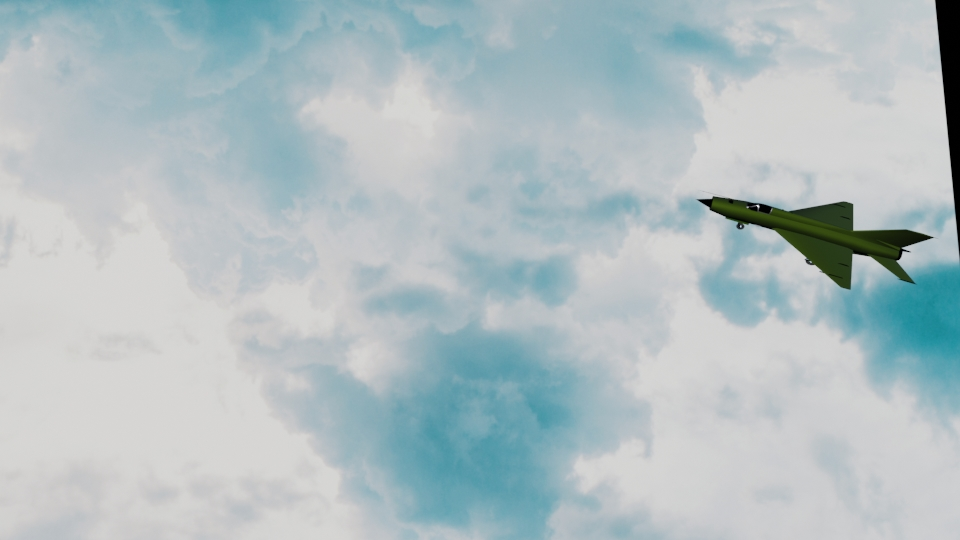plane: (698, 192, 935, 289)
